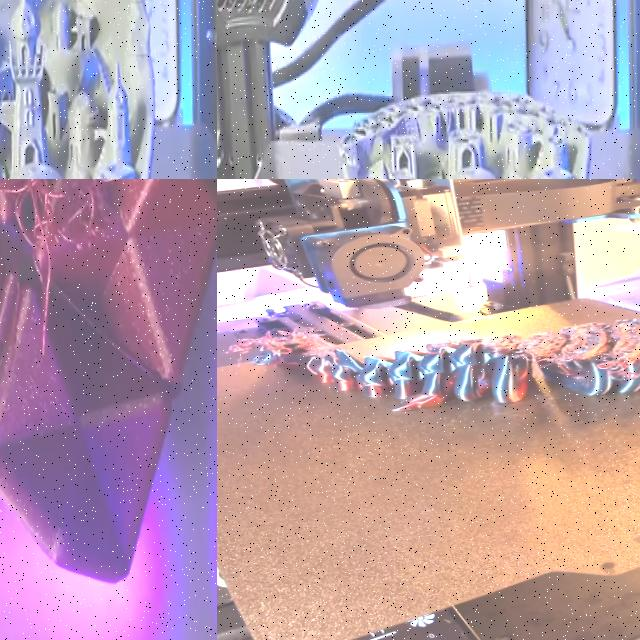spaghetti: (0, 179, 163, 368), (495, 313, 640, 397), (232, 327, 292, 361)
